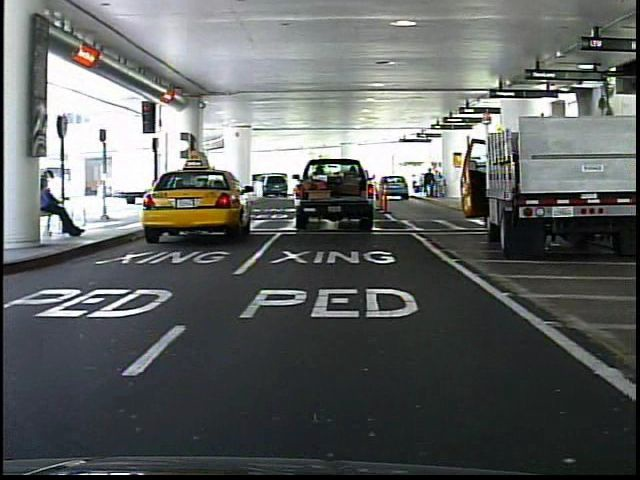person: (43, 166, 91, 244), (147, 166, 169, 219)
